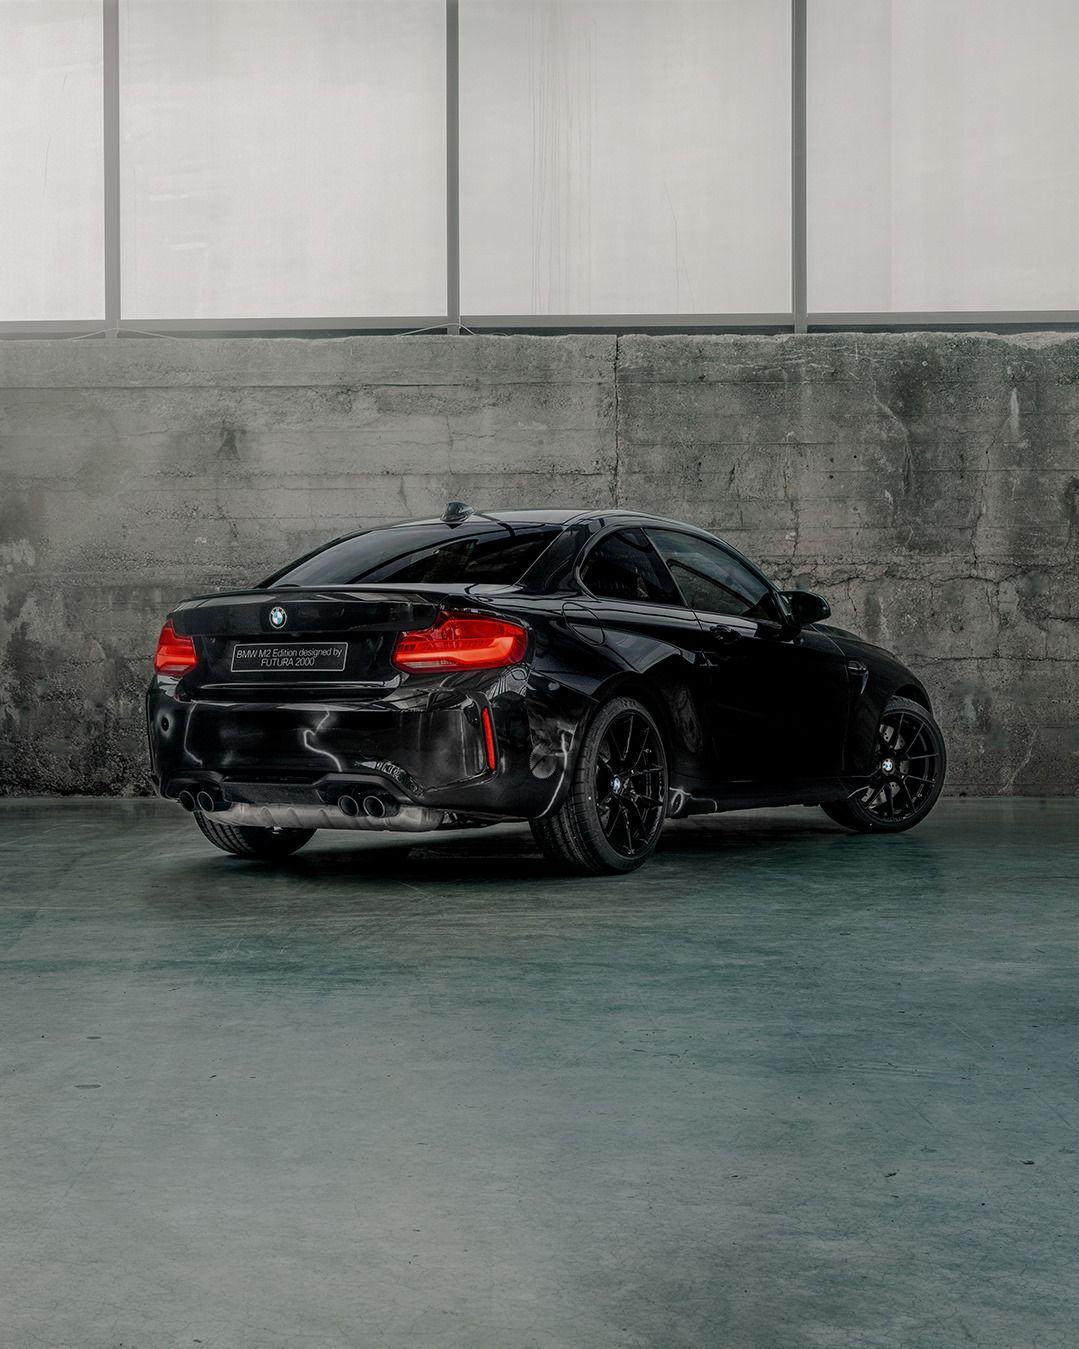car: (134, 502, 952, 878)
